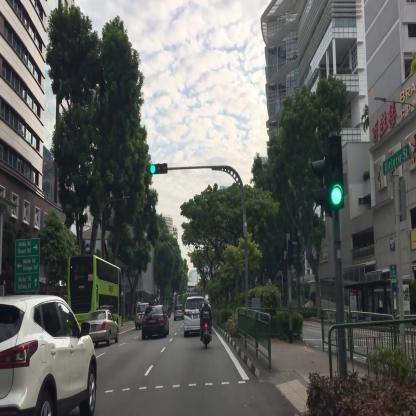green_traffic_light: (326, 134, 343, 209), (149, 161, 168, 176)
